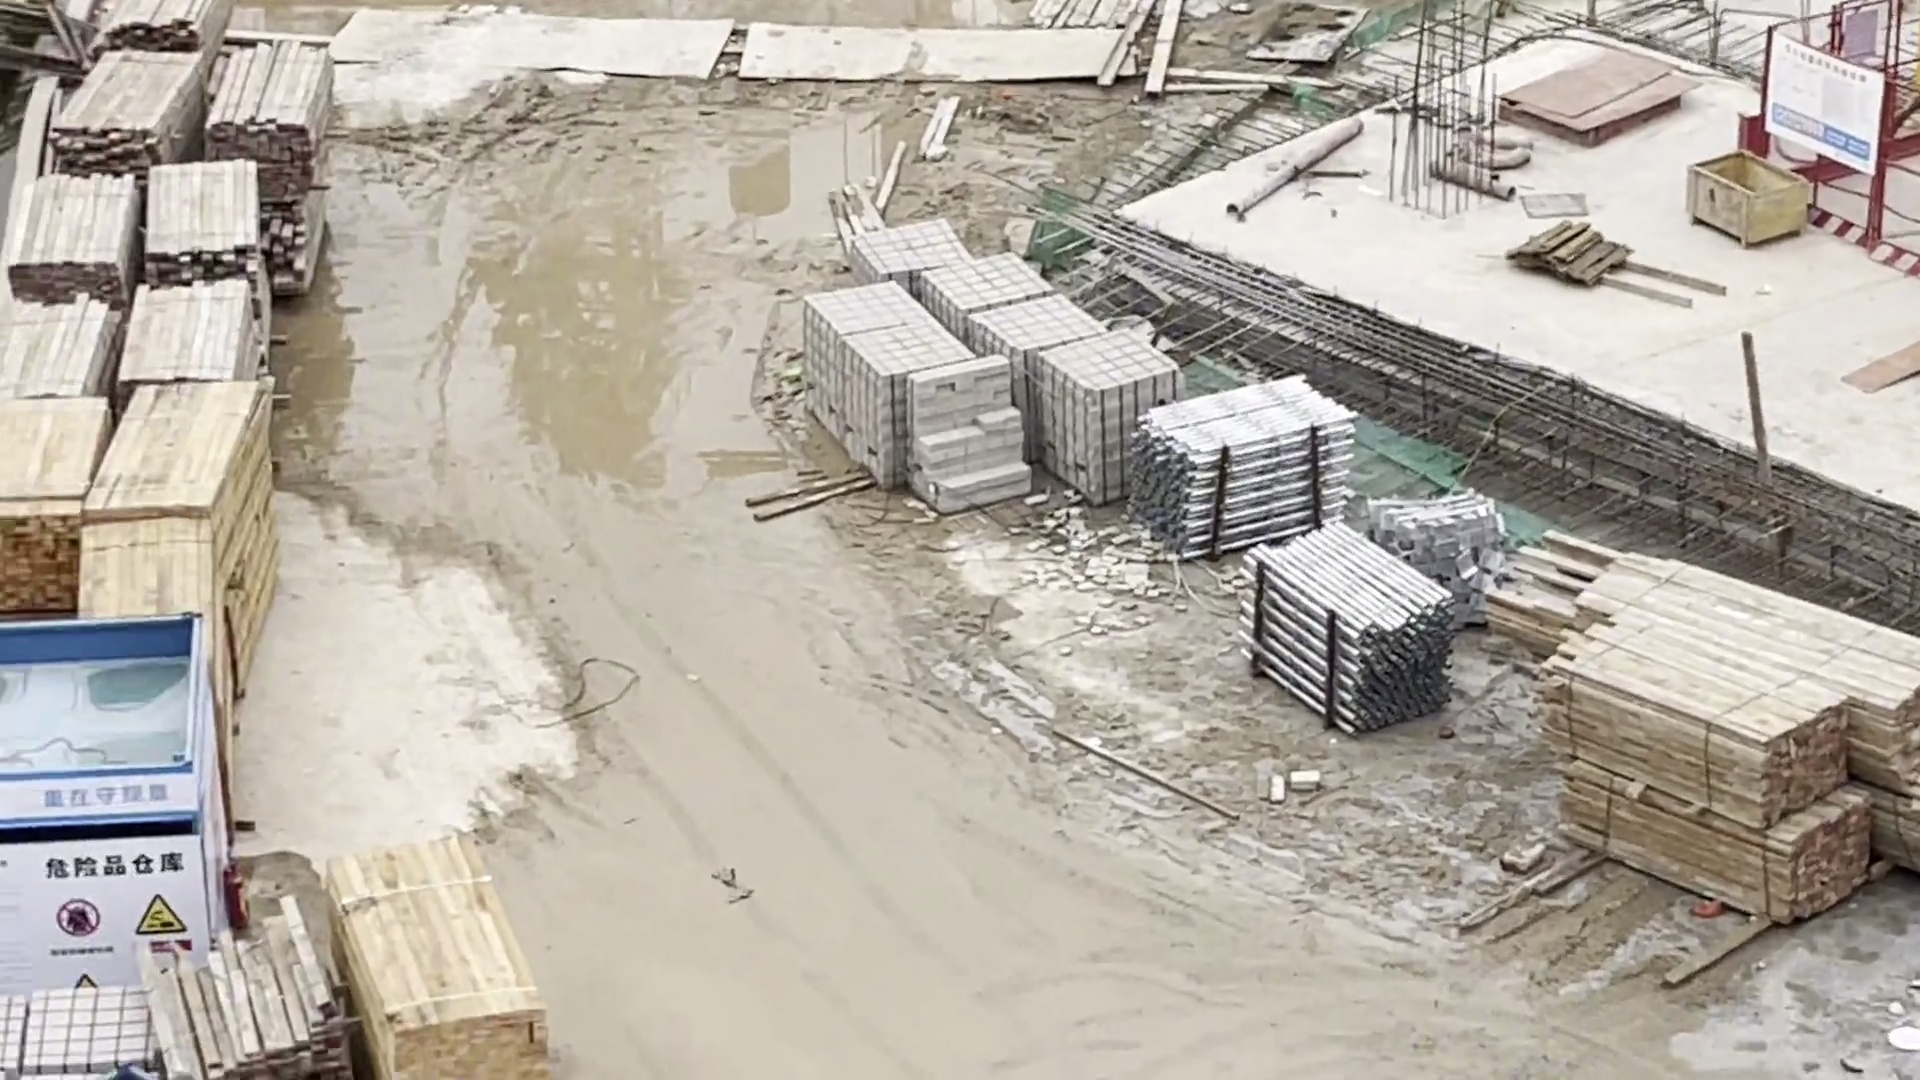brick: (794, 278, 997, 524), (1036, 334, 1182, 530), (975, 280, 1127, 367), (837, 210, 980, 285), (931, 251, 1054, 310)
fence: (1729, 7, 1920, 303)
scaffold: (1215, 520, 1466, 723), (1130, 382, 1370, 563)
slogan: (1, 642, 232, 942), (1766, 17, 1895, 185)
wood: (1513, 530, 1920, 725), (96, 373, 299, 674), (320, 843, 576, 1080), (1553, 613, 1857, 811), (1575, 766, 1888, 924), (111, 920, 347, 1080), (222, 41, 334, 303), (4, 396, 94, 636), (136, 152, 273, 306), (4, 171, 142, 314), (80, 529, 237, 629), (125, 277, 266, 386), (73, 51, 196, 174), (3, 301, 121, 404), (88, 1, 222, 61)
